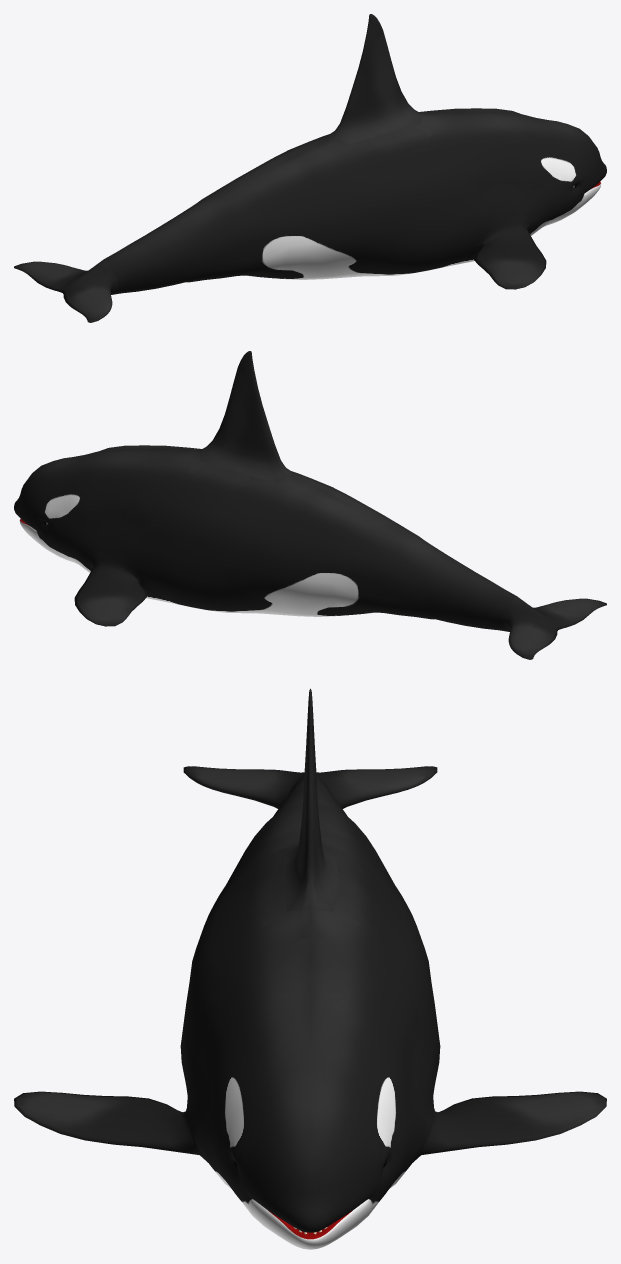
Rendered from KillWhale.FBX.
3 renders of one model, top to bottom at view 1: azimuth 30°, elevation 25°; view 2: azimuth 150°, elevation 25°; view 3: azimuth 270°, elevation 25°, orthographic. The views are drawn at different scales.
Parts seen in each view (by area): view 1: Whale; view 2: Whale; view 3: Whale.
Boxes of the visible parts, bbox=[...] form: Whale: bbox=[14, 14, 606, 322]; Whale: bbox=[14, 351, 606, 659]; Whale: bbox=[14, 688, 606, 1249].
Size of the model in its own units: 552 by 250 by 311.
Materials: 1 (1 with a texture image).
